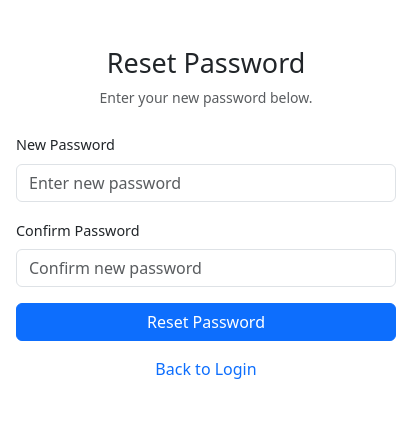
ResetPasswordPage › should display token expiration error
Type "NewPass123!" into the password field with placeholder "Enter new password" at (206, 183), box [16,164,396,202]
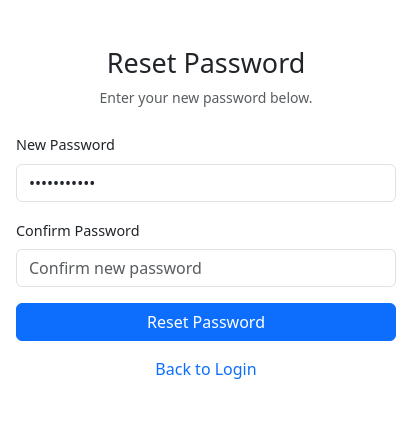
Type "NewPass123!" into the password field with placeholder "Confirm new password" at (206, 268), box [16,249,396,287]
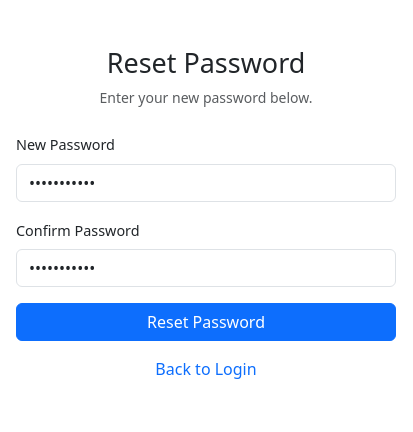
Click the button "Reset Password" at (206, 322), box [16,303,396,341]
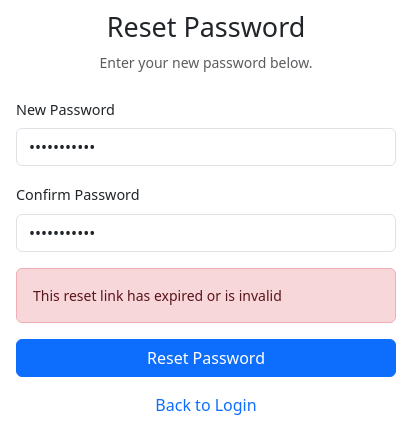
Result: the text "This reset link has expired or is invalid" is shown at [16,268,396,323]
